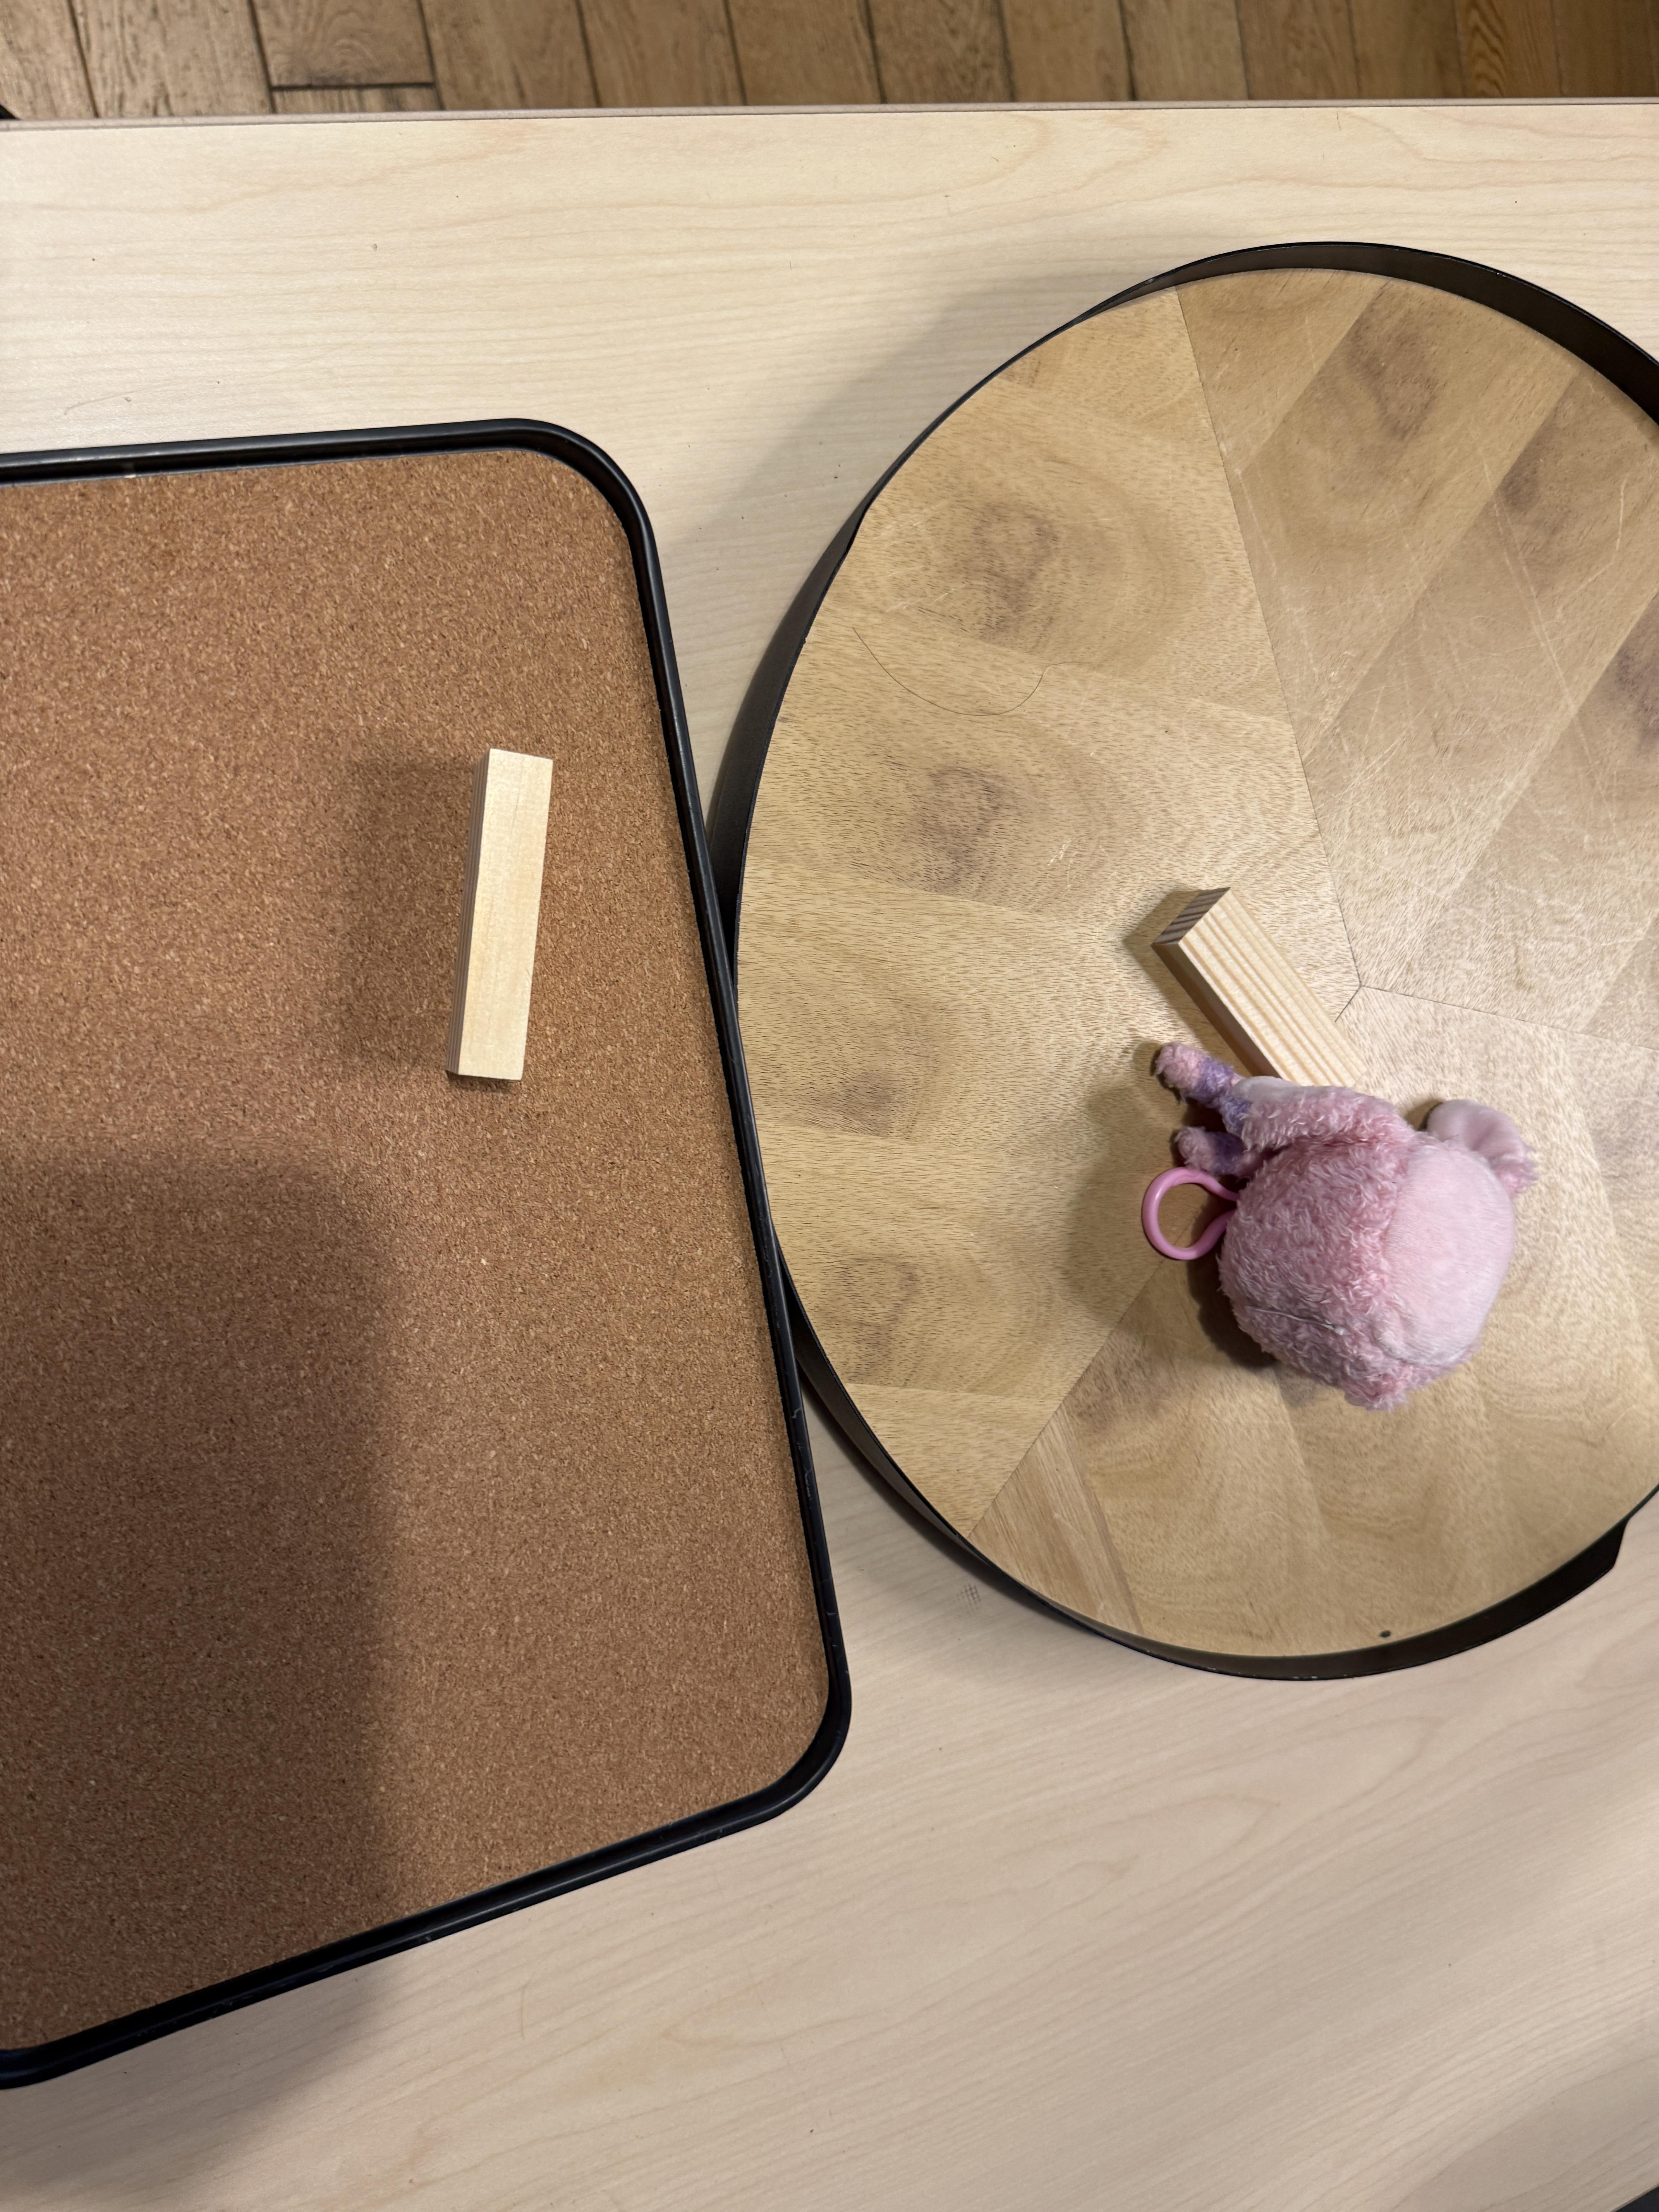block: (1173, 880, 1380, 1108), (472, 735, 554, 1096)
doll: (1143, 1038, 1551, 1400)
